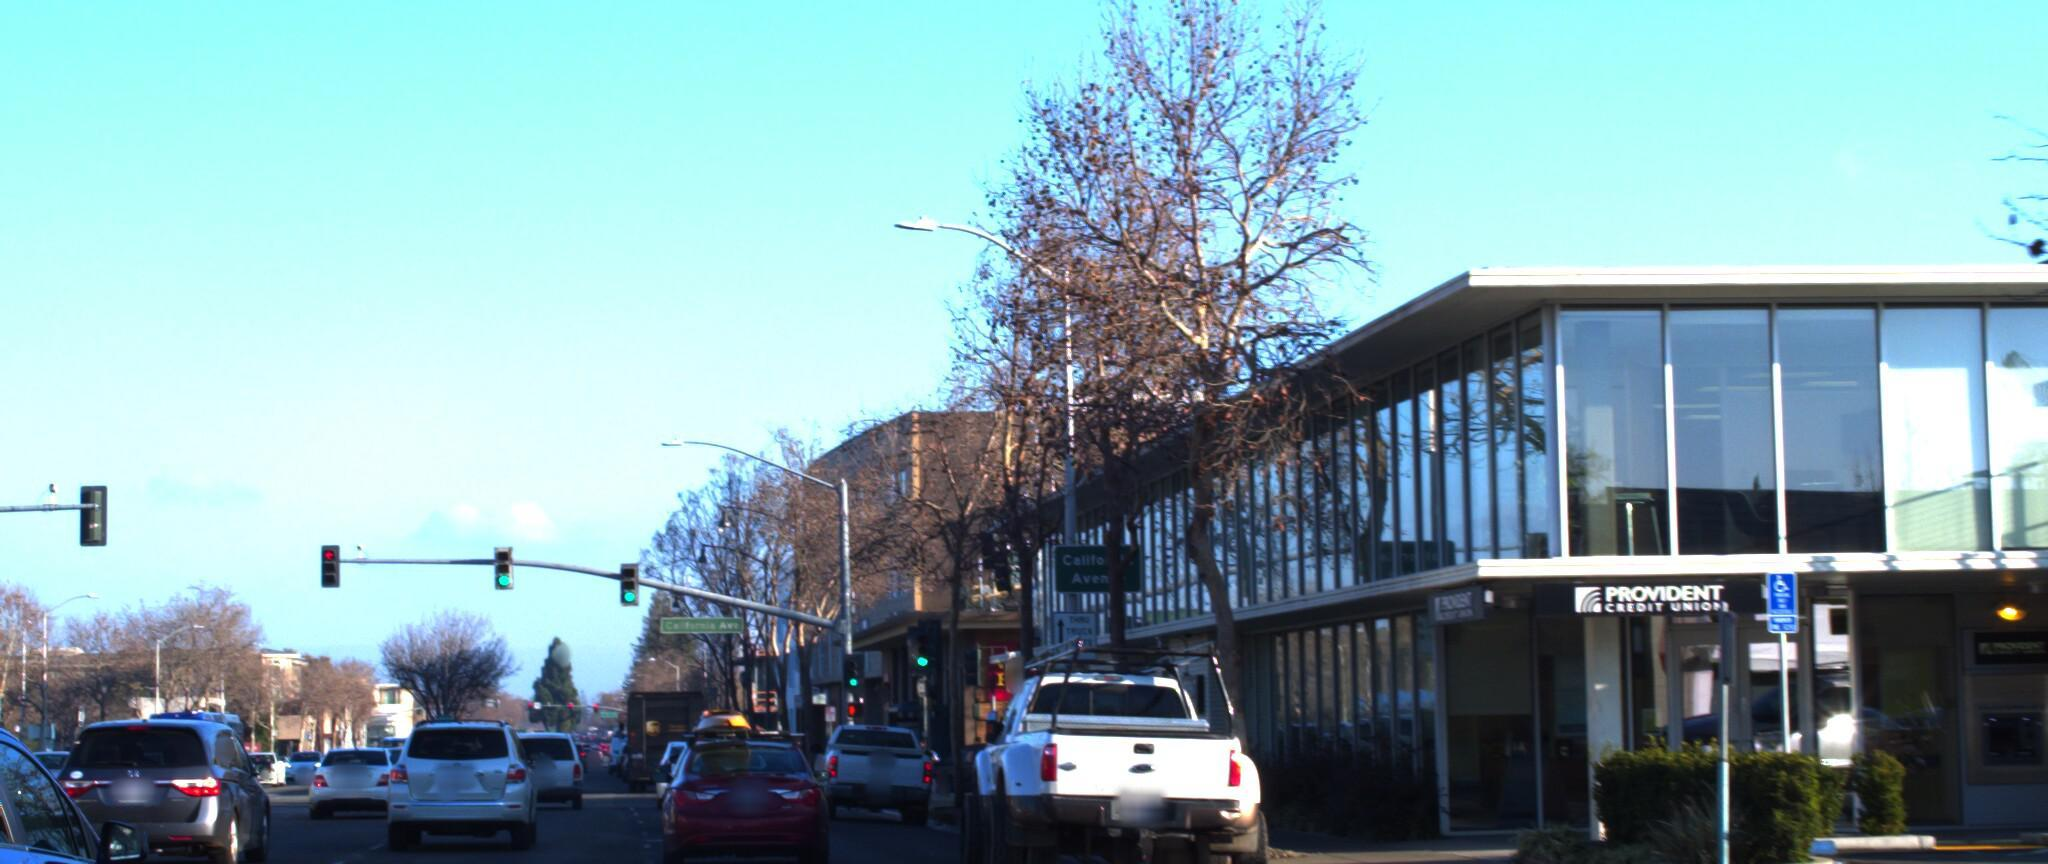car: (927, 611, 1273, 864), (37, 696, 291, 864), (0, 698, 249, 864), (645, 684, 837, 864), (374, 705, 543, 857), (794, 696, 946, 799), (296, 714, 409, 801), (492, 711, 593, 790)
